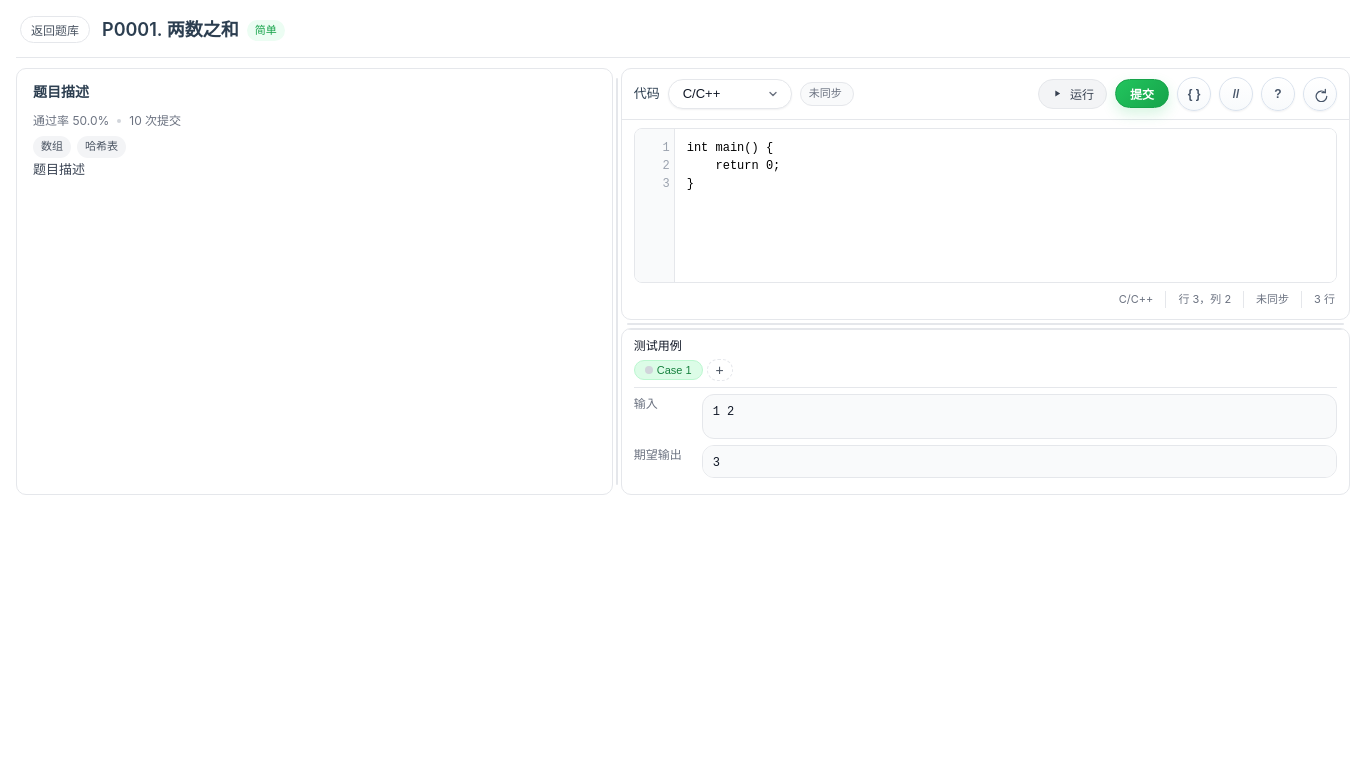
Test: ProblemSolveView actions › opens shortcut help from the editor toolbar button
Click the button with test id "shortcut-help-button" at (1278, 94), box [1261,77,1295,111]
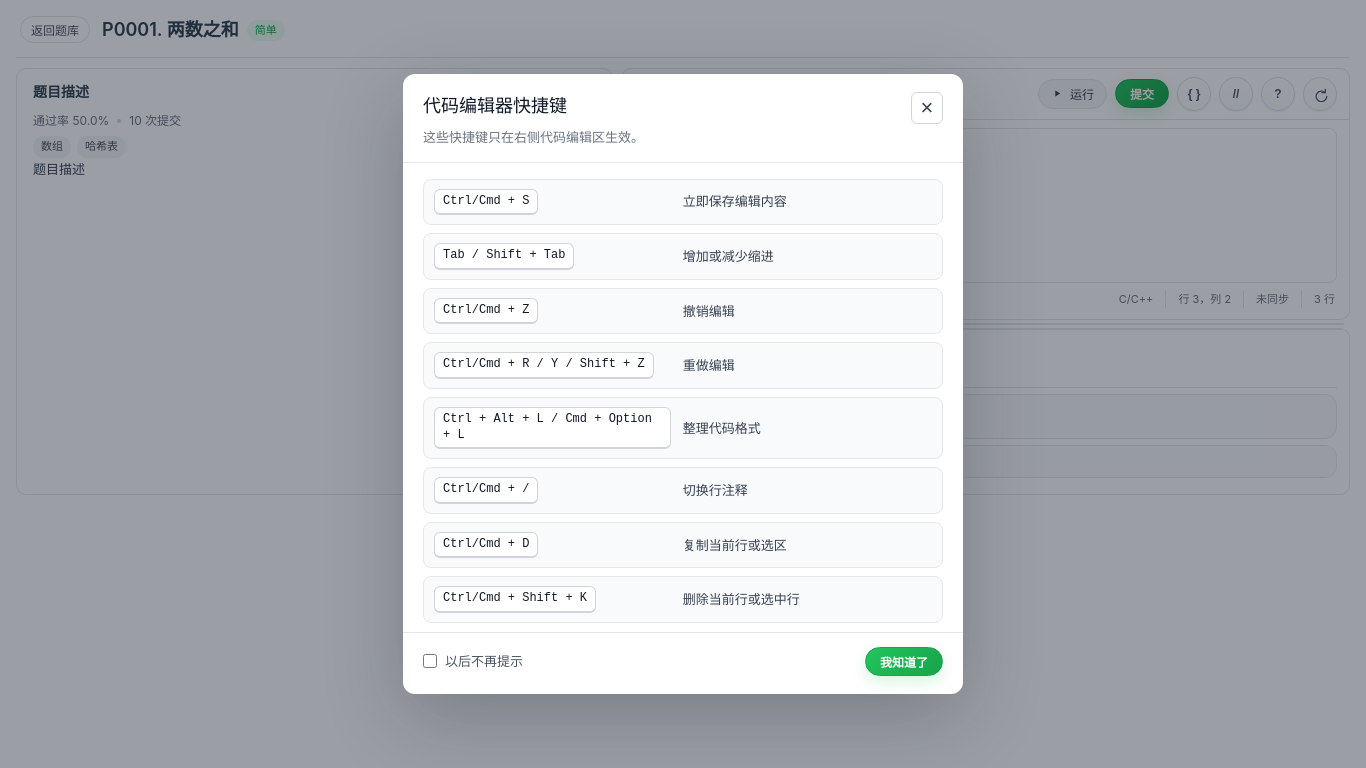
Expected: the dialog with test id "shortcut-tips-dialog" is shown, [403,74,963,694]
Expected: the text "Ctrl/Cmd + S" is shown, [434,189,538,215]
